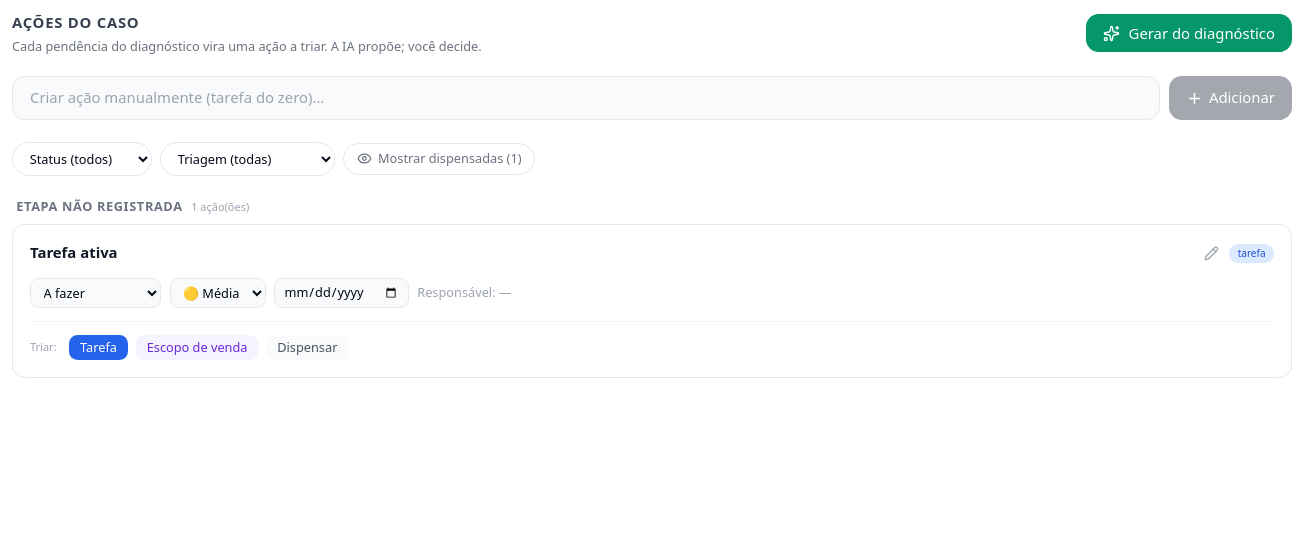
Test: AcoesTab (item 3 — dispensada some da visão default) › revela as dispensadas ao clicar em "Mostrar dispensadas" e volta a ocultar
Click the button "Mostrar dispensadas (1)" at point(439, 159), box [343, 143, 535, 175]
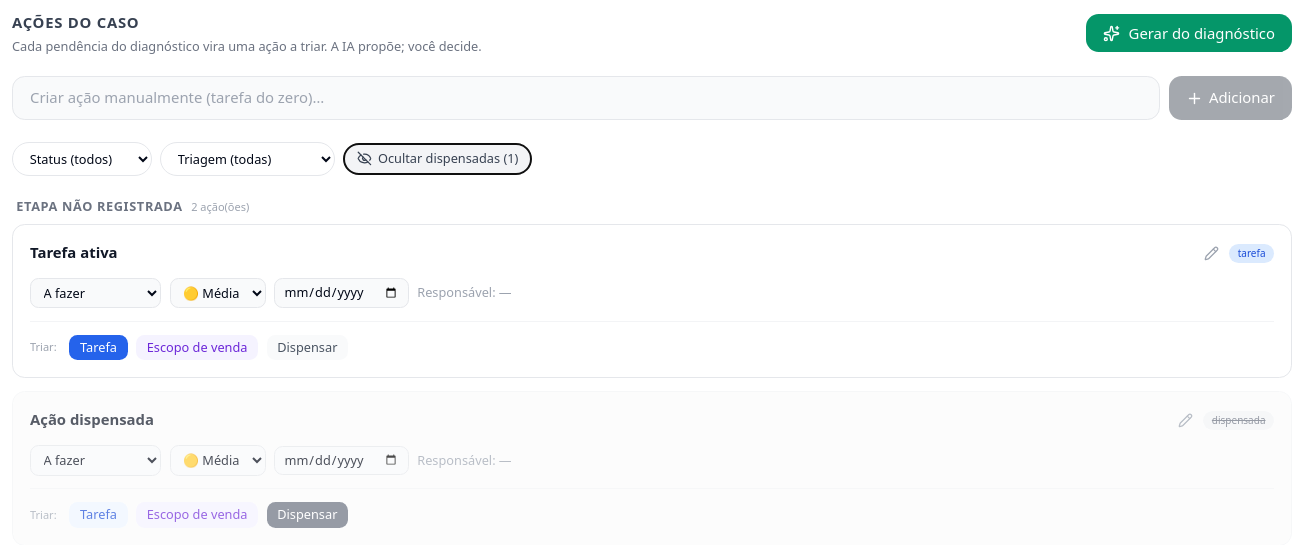
Now the text "Ação dispensada" is shown, box [30, 409, 154, 429]
Click the button "Ocultar dispensadas (1)" at point(438, 159), box [343, 143, 532, 175]
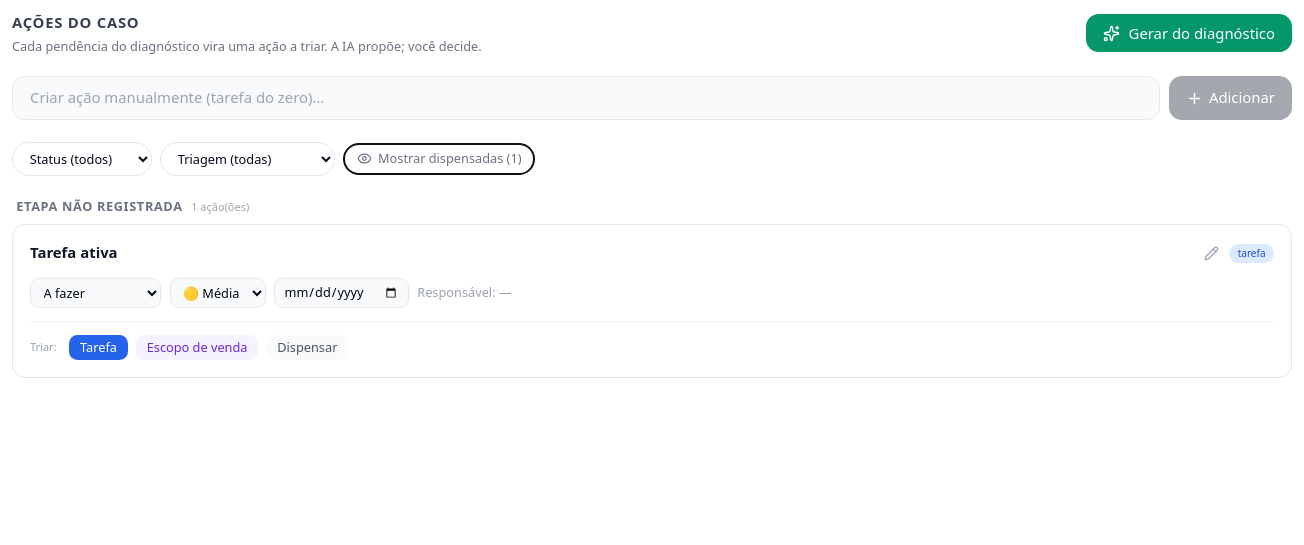
Now the text "Ação dispensada" is gone
